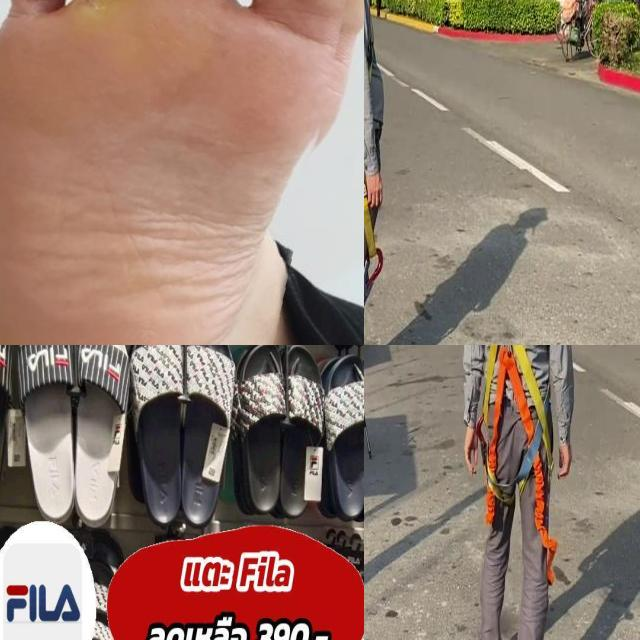Barefoots: (0, 0, 364, 345)
Harness: (487, 346, 557, 554), (512, 345, 550, 448)
Sandals: (10, 345, 135, 542), (127, 345, 234, 538), (225, 345, 322, 517), (315, 345, 364, 515)
